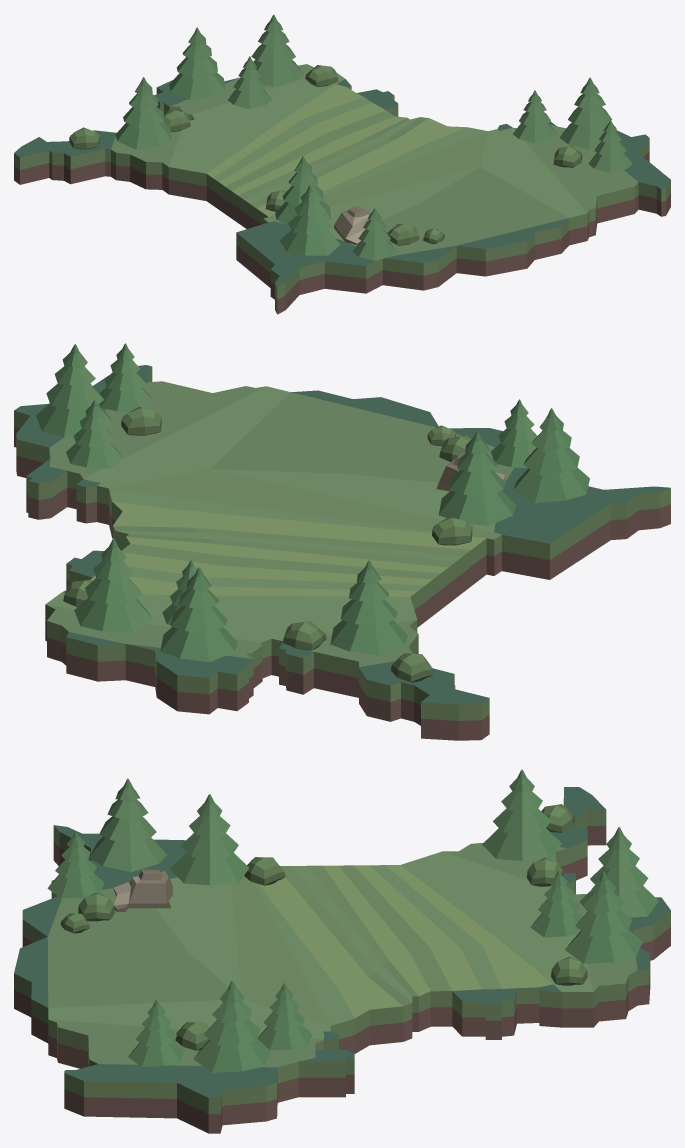
The model's file is tiksi.gltf.
3 views of the same model, one above another, from view 1: azimuth 30°, elevation 25°; view 2: azimuth 150°, elevation 25°; view 3: azimuth 270°, elevation 25° (orthographic). The views are drawn at different scales.
Parts seen in each view (by area): view 1: тикси; view 2: тикси; view 3: тикси.
Boxes of the visible parts, x1,y1,x2,y2 form: тикси: [14, 14, 670, 314]; тикси: [14, 343, 670, 740]; тикси: [14, 769, 670, 1133].
Bounding box in the file's own units: 2.93 × 0.5325 × 2.61.
